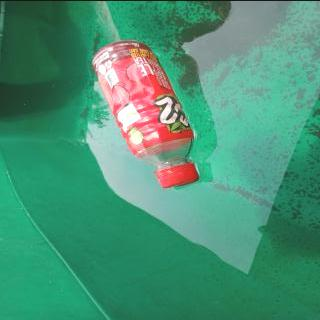bottle: (89, 38, 201, 189)
